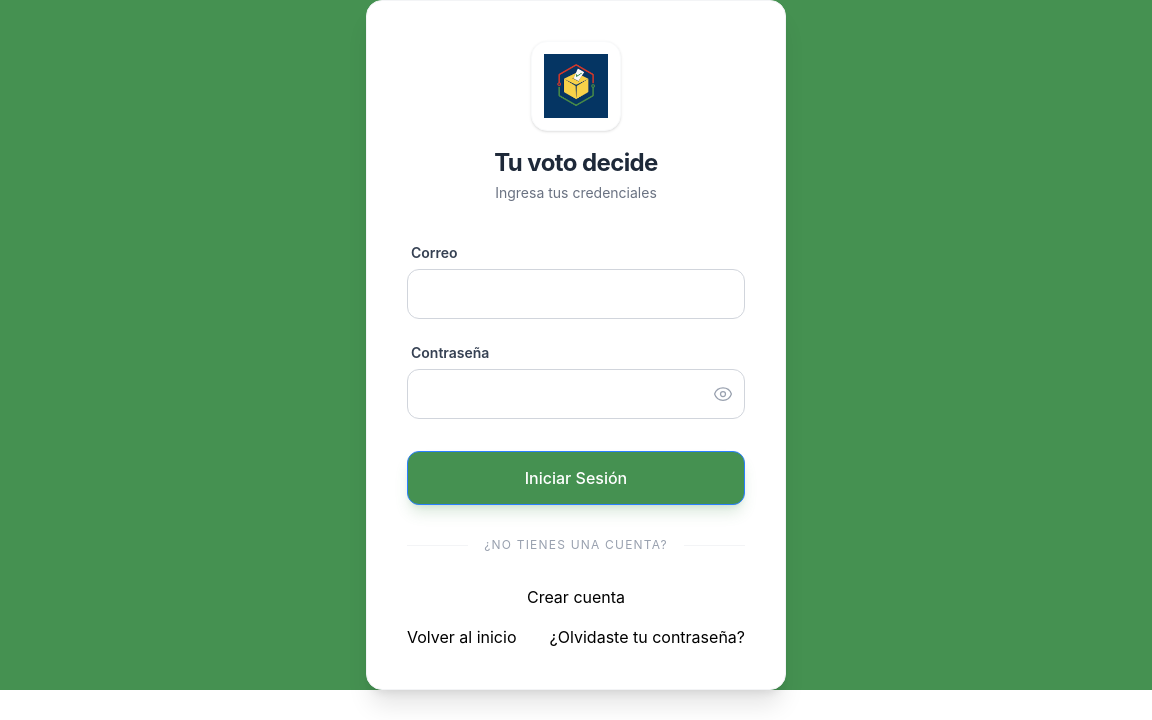
Test: MX-03 | Autenticación, sesiones, roles y permisos | Frontend Admin | Login resultados › AUT-LOG-P1-001 / AUT-CRE-P0-001 | valida el formulario público y payload canónico de login resultados
Type "bad-email" into the field with test id "login-email".
click(576, 294); type("bad-email")  # box [407, 269, 745, 319]
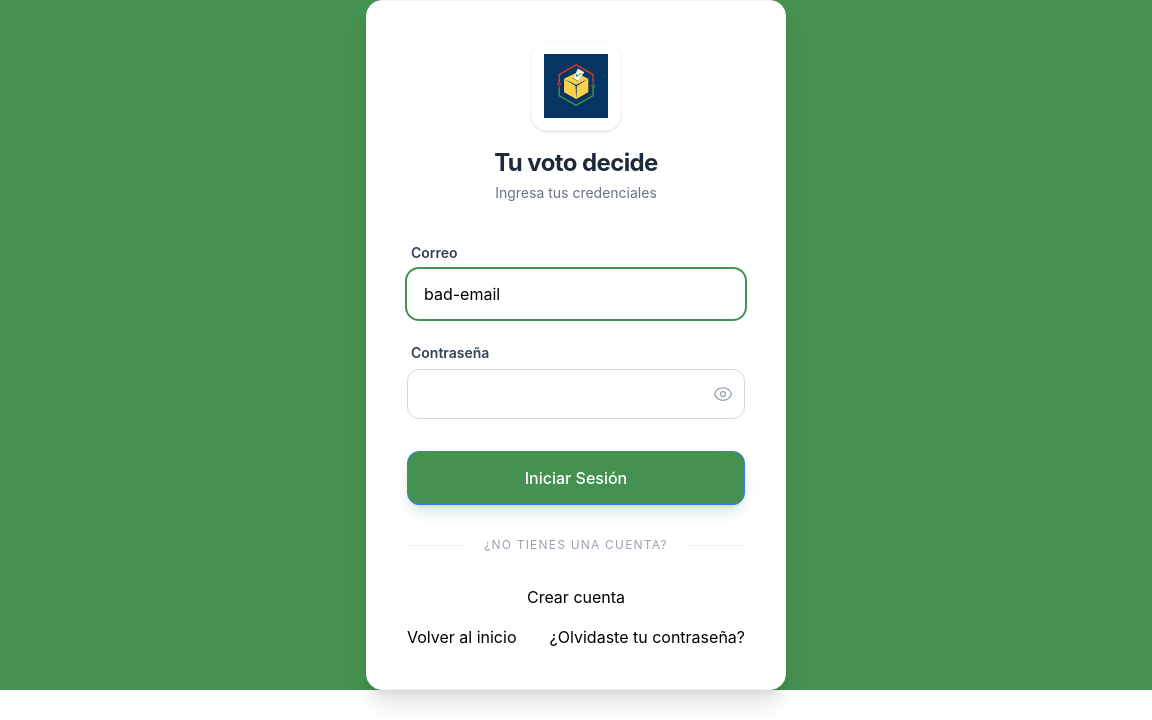
Type "123" into the password field with test id "login-password".
click(576, 394); type("123")  # box [407, 369, 745, 419]
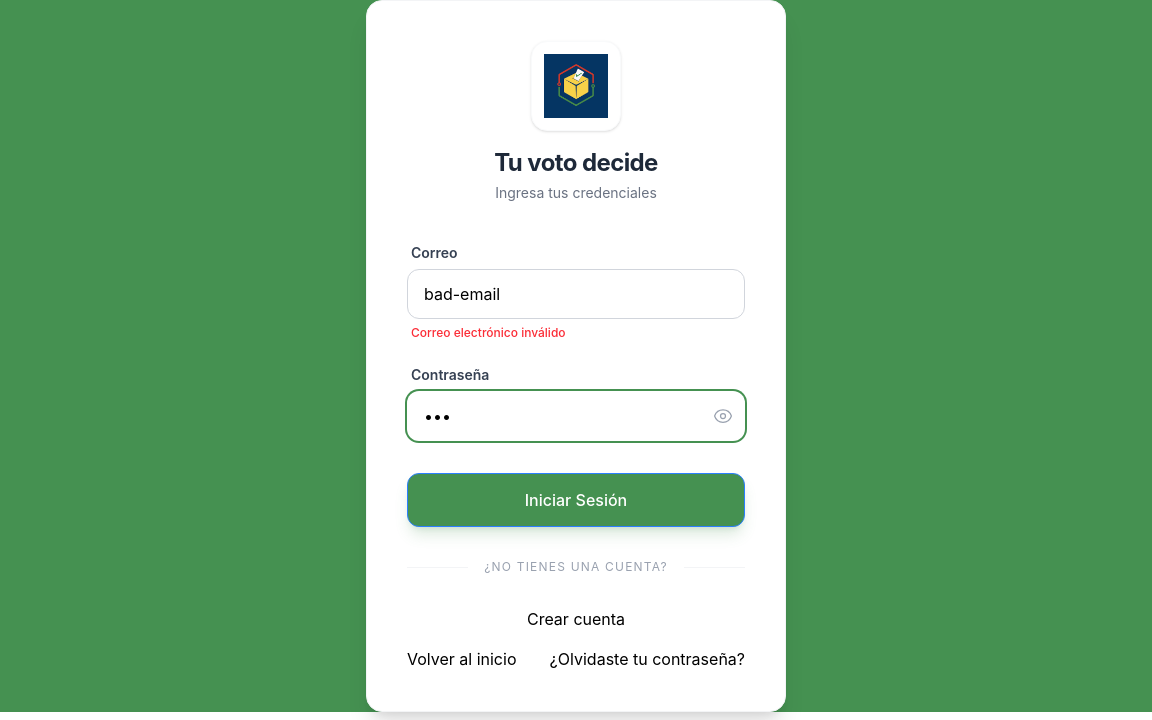
Click the button with test id "login-submit".
click(576, 500)  # box [407, 473, 745, 527]
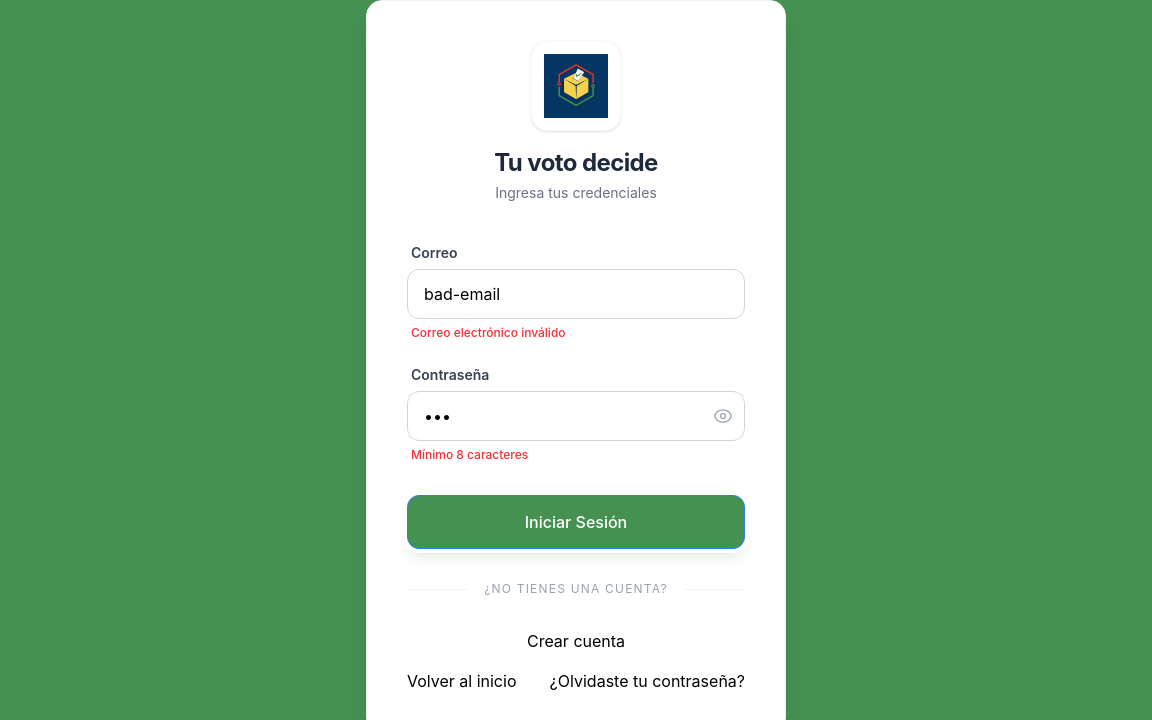
Now the text "Correo electrónico inválido" is shown, box [411, 325, 566, 340]
Now the text "Mínimo 8 caracteres" is shown, box [411, 447, 528, 462]
